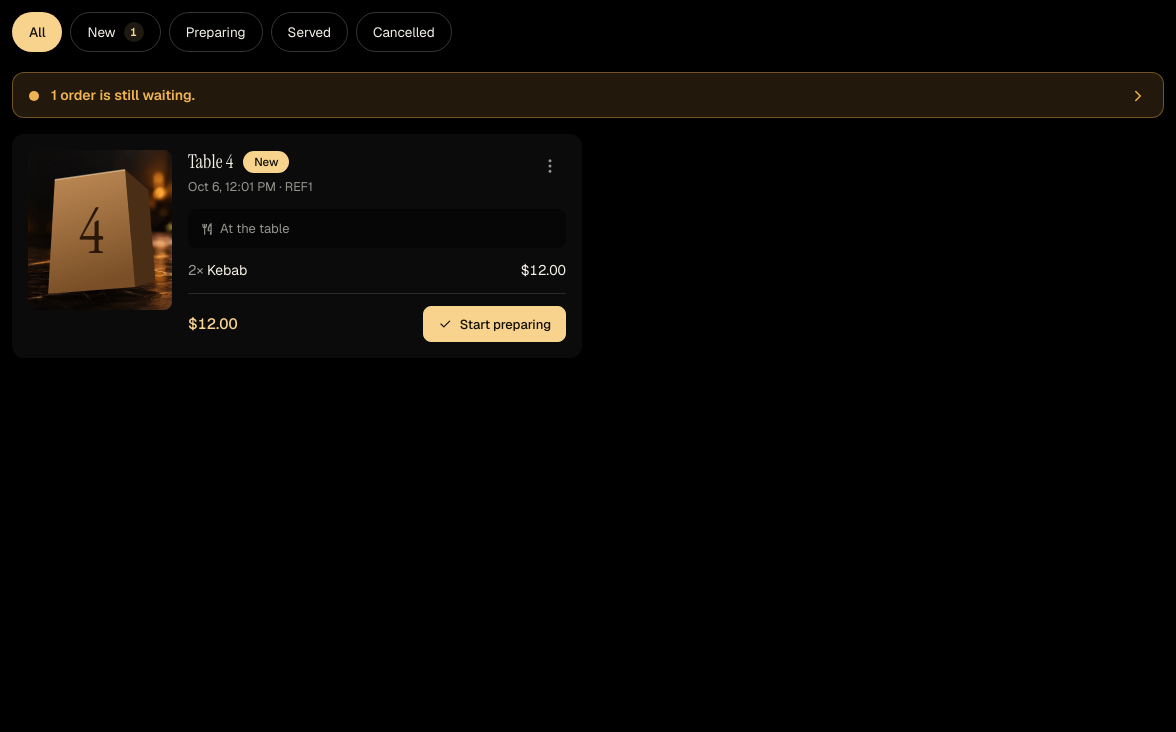
Scenario: TableOrdersPage › moves an order on like the Orders page does
Click the button "Start preparing". click: (494, 324)
box: x1=423 y1=306 x2=566 y2=342
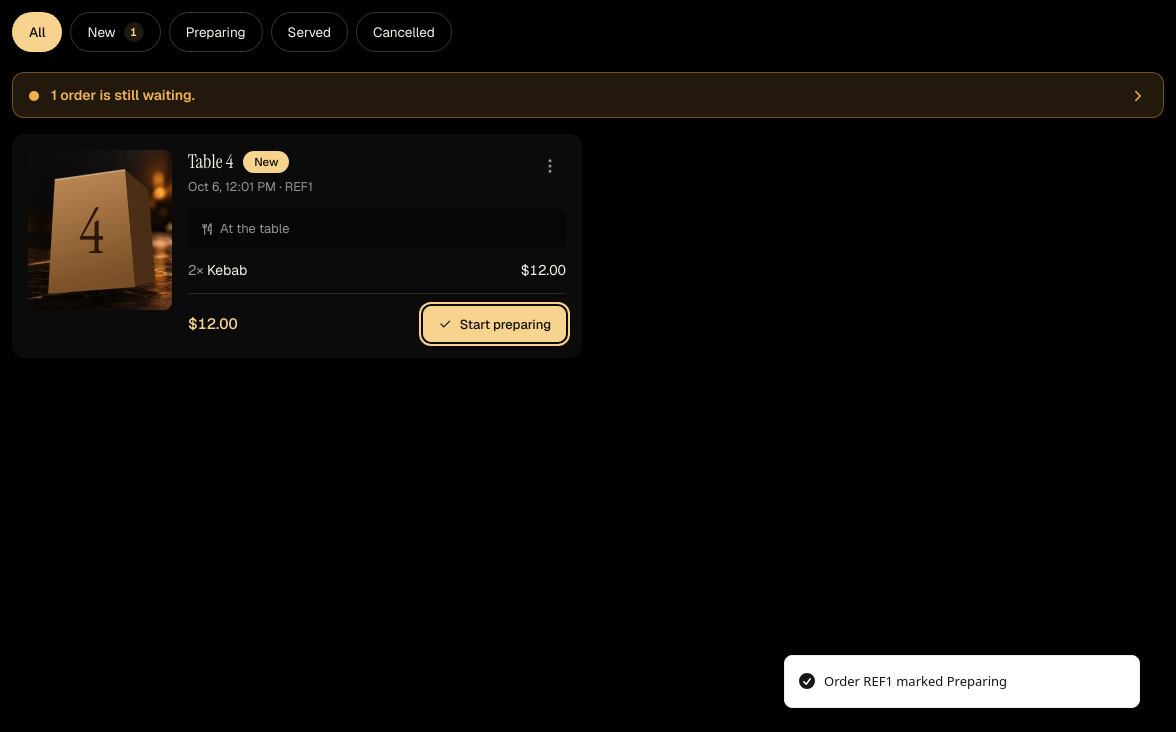
Now the text "Order REF1 marked Preparing" is shown, box x1=824 y1=672 x2=1007 y2=691
